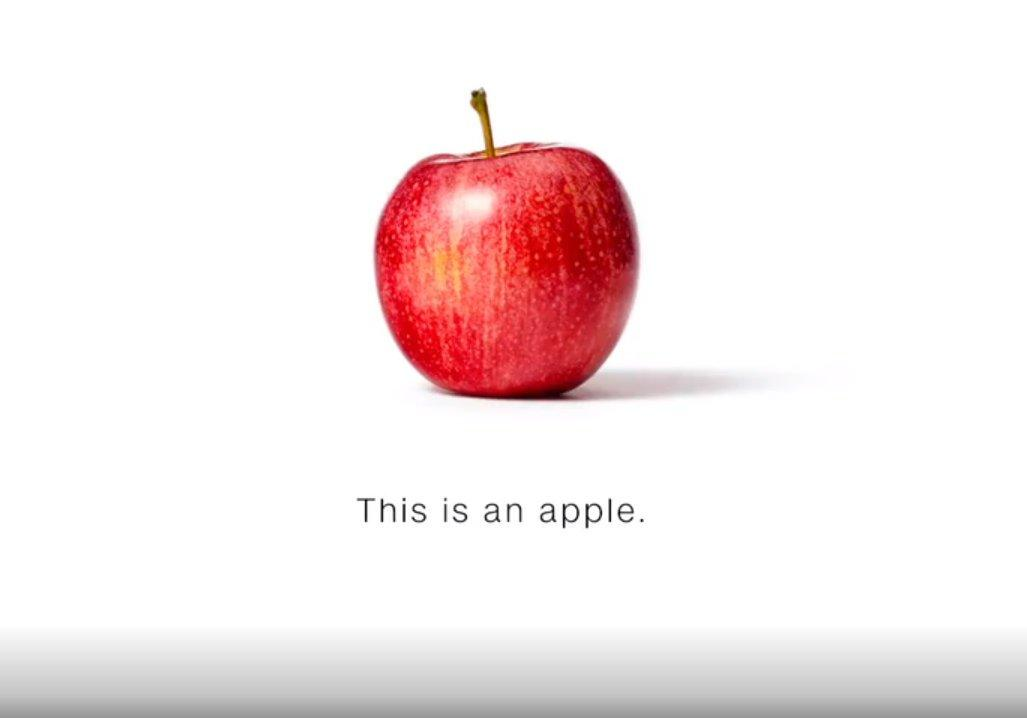Apple Fresh: (366, 74, 650, 424)
